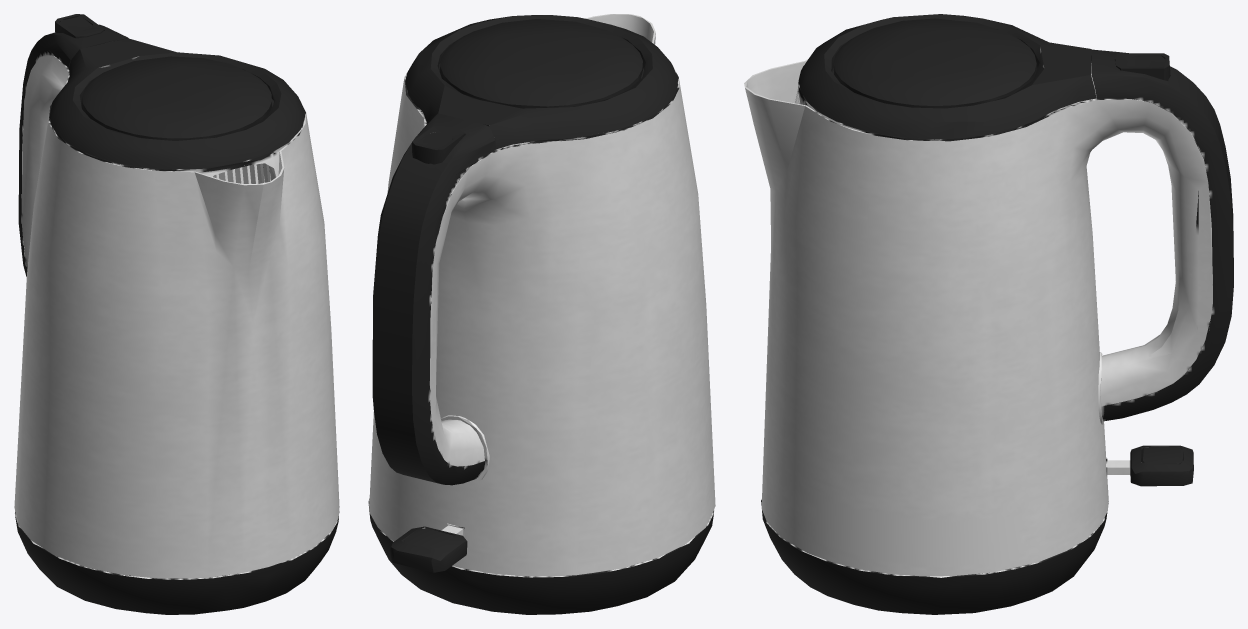
File: kitchenware_kettle_a01.glb
3 views of the same model, side by side, from view 1: azimuth 30°, elevation 25°; view 2: azimuth 150°, elevation 25°; view 3: azimuth 270°, elevation 25° (orthographic). The views are drawn at different scales.
Visible parts, largest first — view 1: kitchenware_kettle_a01_lod1; view 2: kitchenware_kettle_a01_lod1; view 3: kitchenware_kettle_a01_lod1.
Boxes of the visible parts, box(x1,y1,x2,y2) form: kitchenware_kettle_a01_lod1: box(14, 14, 339, 614); kitchenware_kettle_a01_lod1: box(368, 14, 715, 614); kitchenware_kettle_a01_lod1: box(744, 14, 1233, 614).
Size of the model in its own units: 0.158 by 0.2508 by 0.2224.
Materials: 1 (1 with a texture image).
